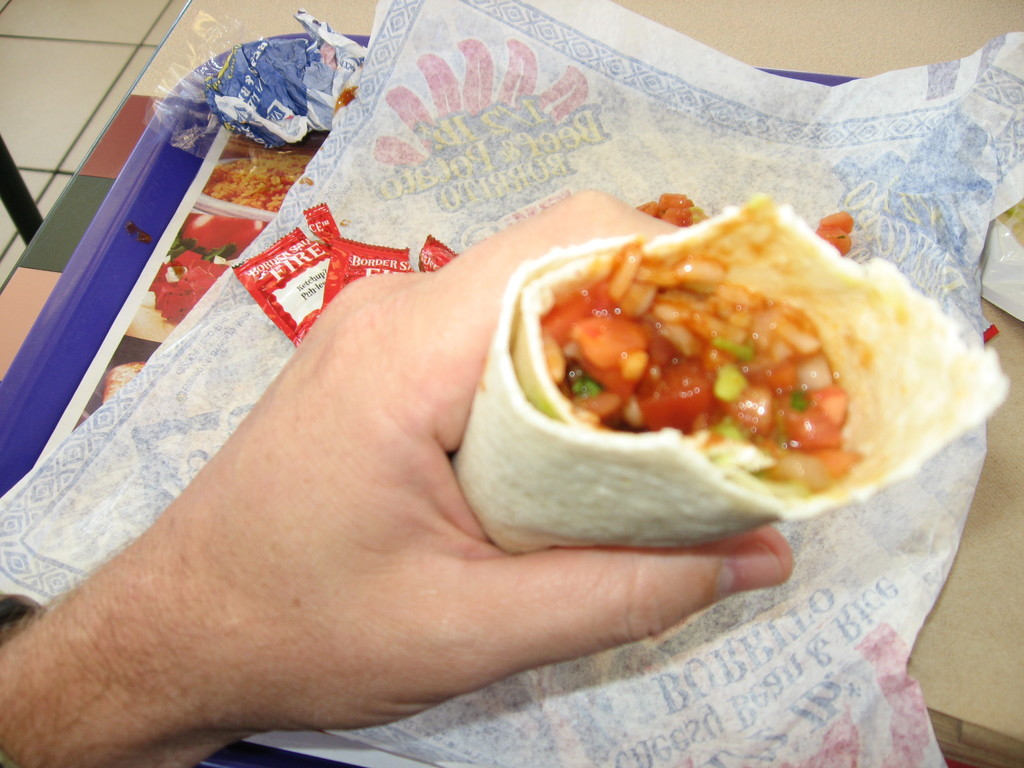taco: (452, 188, 1010, 551)
